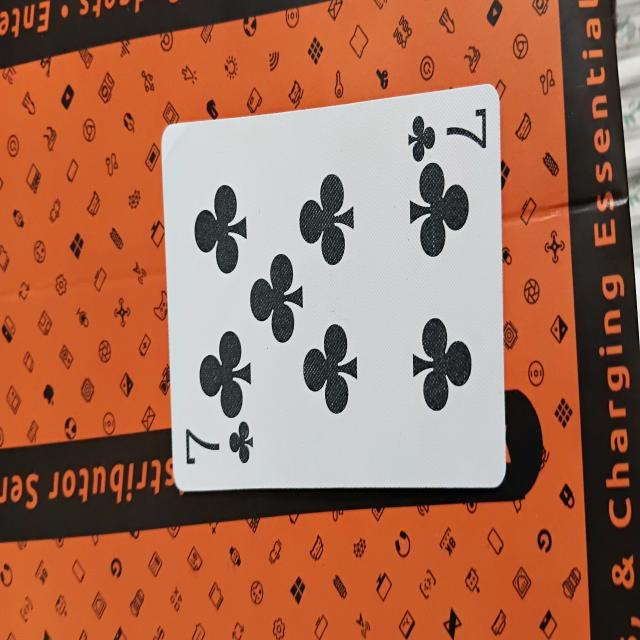7C: (159, 84, 505, 492)
